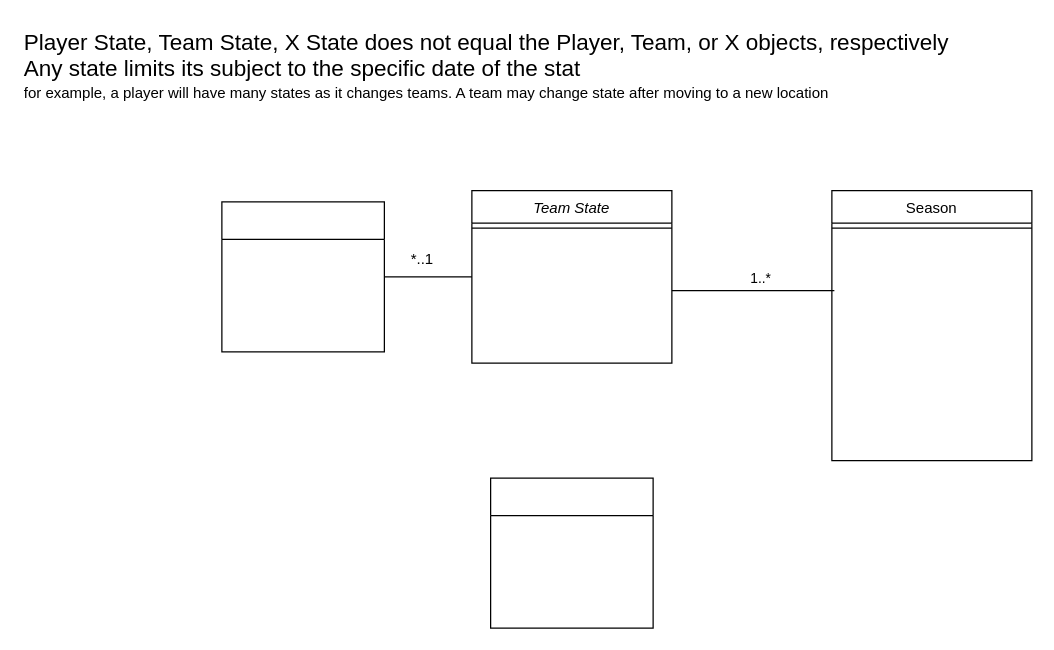
This 1054x650 diagram has some shape labels left out. The box of each missing label's shape, as (x1, y1, x2, y2) in pixels:
Play: (489, 477, 653, 628)
Player State: (221, 201, 384, 352)
